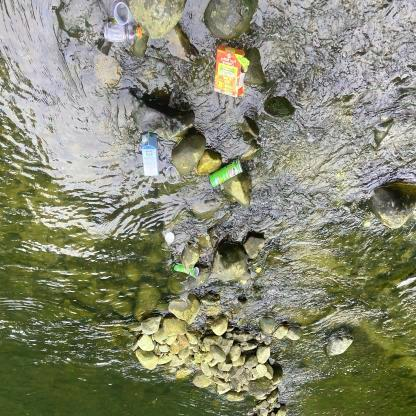Metal: (208, 156, 245, 189), (172, 263, 201, 279)
Plastic: (102, 19, 144, 43), (112, 0, 134, 27)
